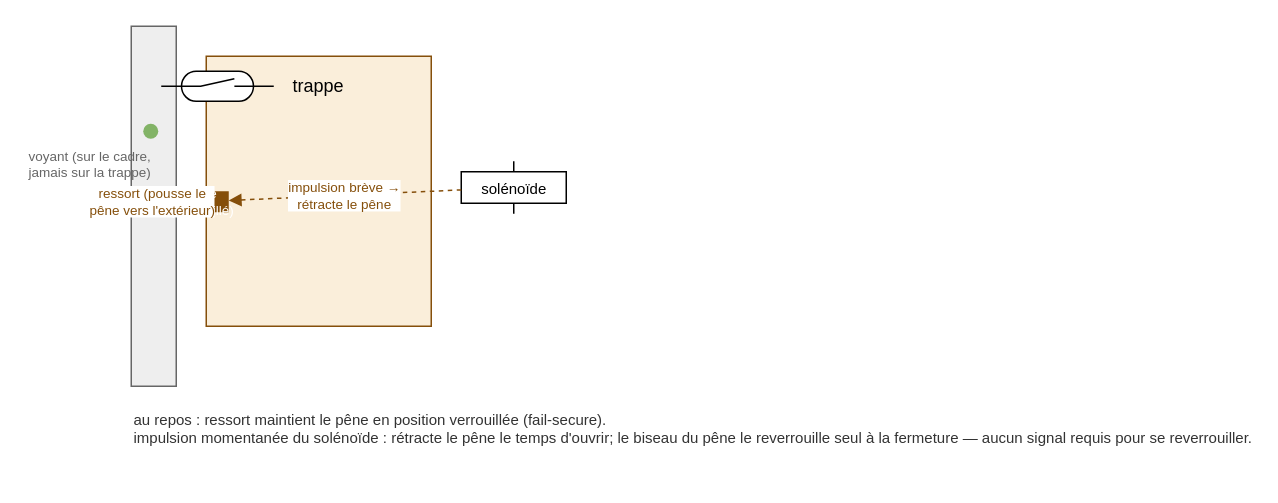
Some shapes in this 1278 by 503 pixel diagram are drawn without their labels. The centre of each missing label's shape, as x and y in pixels:
"cadre (fixe)" goes at pixel 153 205.
"capteur porte (reed, monté sur le cadre)" goes at pixel 217 85.
